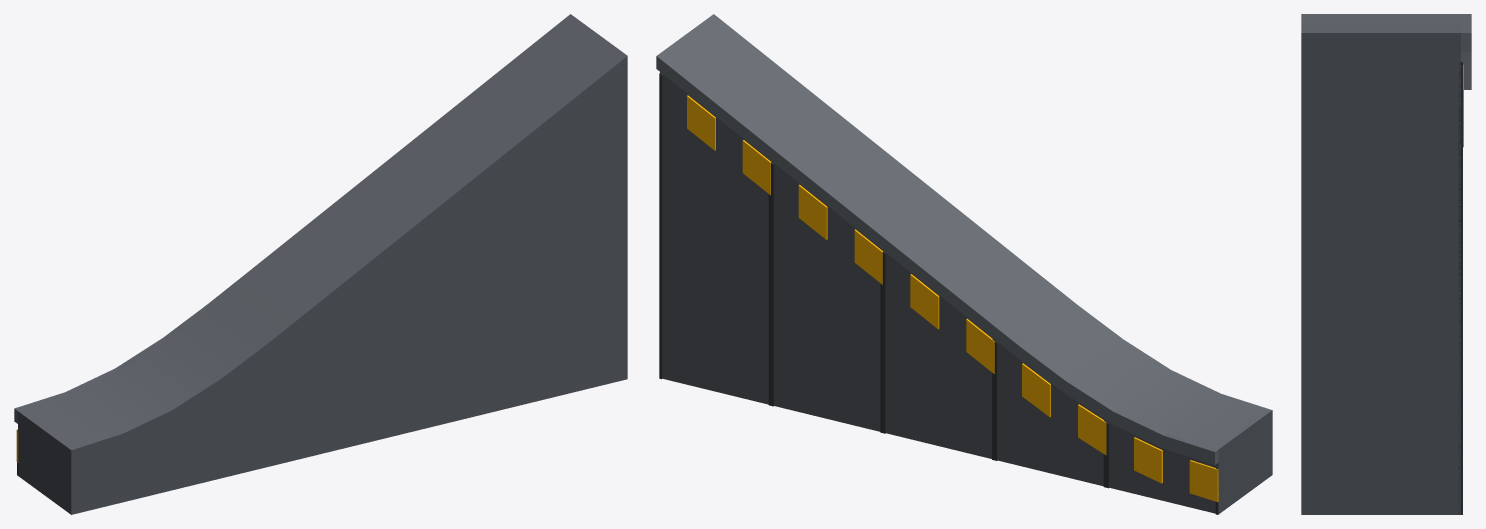
3 renders of one model, left to right at view 1: azimuth 30°, elevation 25°; view 2: azimuth 150°, elevation 25°; view 3: azimuth 270°, elevation 25°, orthographic. The views are drawn at different scales.
Visible parts, largest first — view 1: d2w; view 2: d2w; view 3: d2w.
Boxes of the visible parts, bbox=[...] form: d2w: bbox=[14, 14, 627, 514]; d2w: bbox=[656, 14, 1272, 514]; d2w: bbox=[1301, 14, 1471, 514].
Bounding box in the file's own units: 9 × 5 × 1.6.
